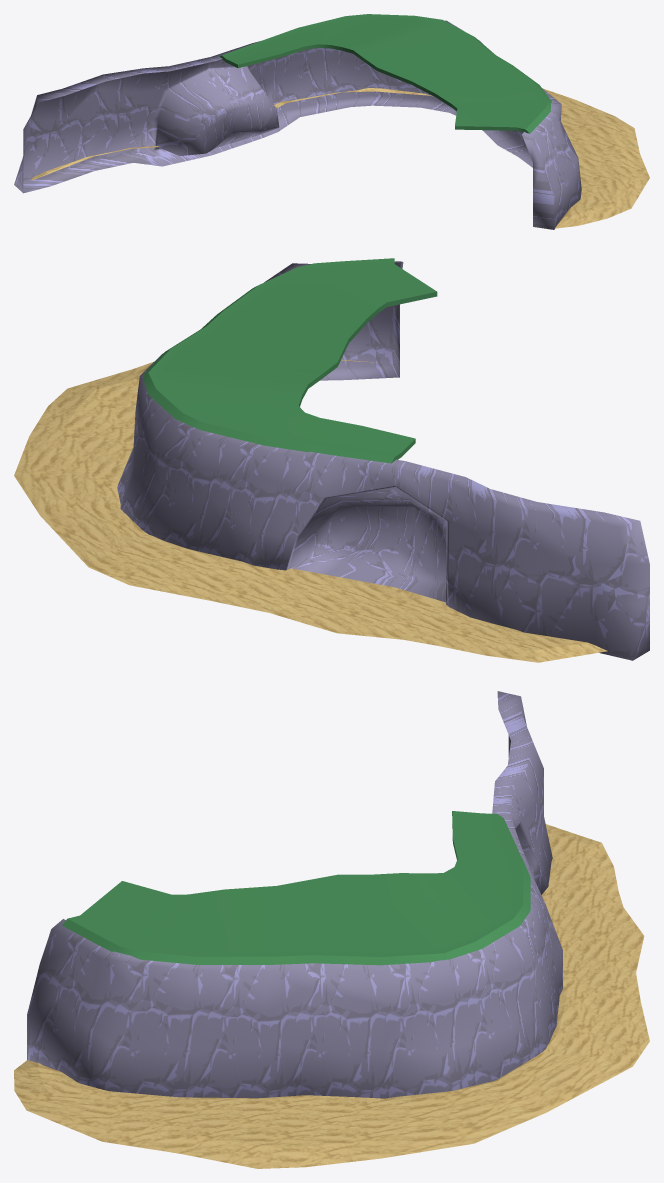
The model's file is BeachCliffMeadon.fbx.
The picture shows the model from 3 angles, top to bottom: view 1: azimuth 30°, elevation 25°; view 2: azimuth 150°, elevation 25°; view 3: azimuth 270°, elevation 25°; orthographic projection. The views are drawn at different scales.
Visible parts, largest first — view 1: pCube2, pCube3, pCube1; view 2: pCube2, pCube1, pCube3; view 3: pCube2, pCube1, pCube3.
Boxes of the visible parts, box(x1,y1,x2,y2) form: pCube2: box(14, 20, 581, 229); pCube3: box(219, 14, 551, 133); pCube1: box(31, 88, 649, 228); pCube2: box(117, 261, 649, 660); pCube1: box(14, 359, 607, 662); pCube3: box(143, 258, 437, 463); pCube2: box(27, 691, 562, 1098); pCube1: box(14, 824, 649, 1168); pCube3: box(62, 811, 530, 965).
Bounding box in the file's own units: 5611 × 1084 × 4180.
